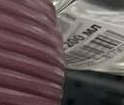1d: (61, 27, 124, 67)
